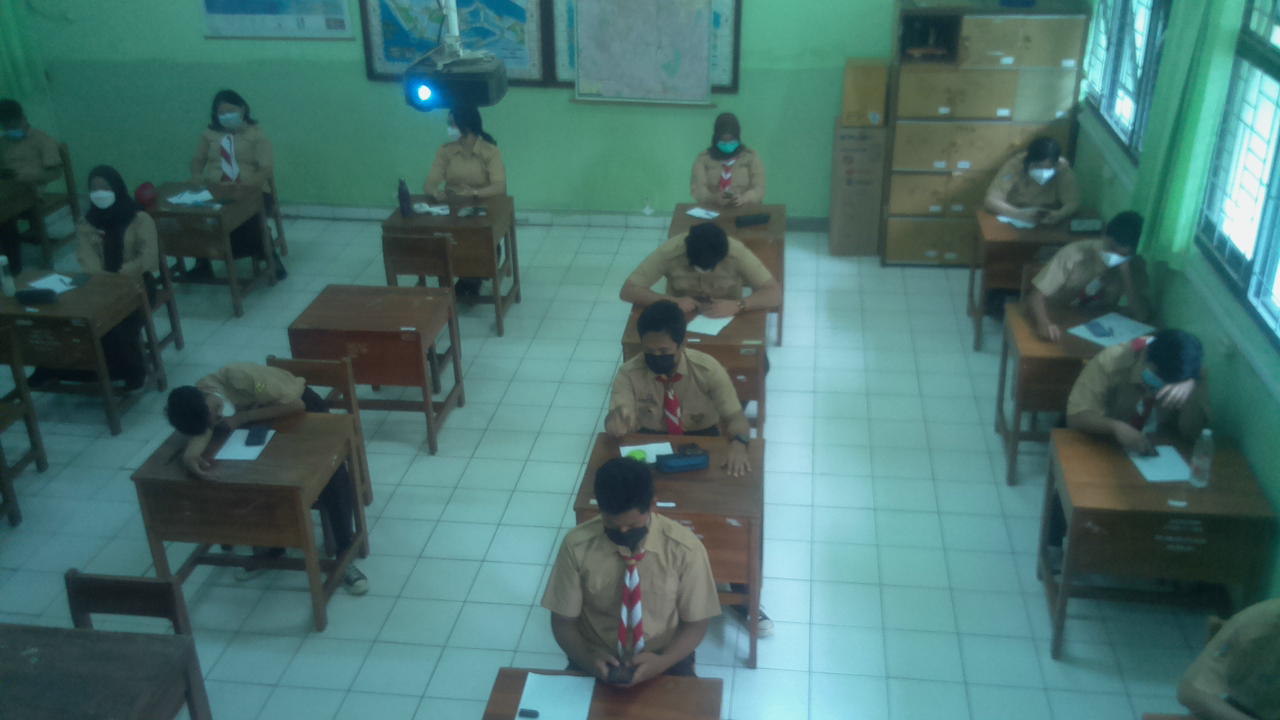Student: (555, 457, 713, 671), (617, 311, 738, 435), (1087, 331, 1217, 434), (165, 355, 320, 433), (645, 223, 766, 310), (1055, 209, 1146, 306), (71, 165, 151, 270), (991, 143, 1078, 222), (199, 91, 271, 182), (435, 107, 506, 193), (691, 115, 763, 197), (0, 99, 64, 182)
